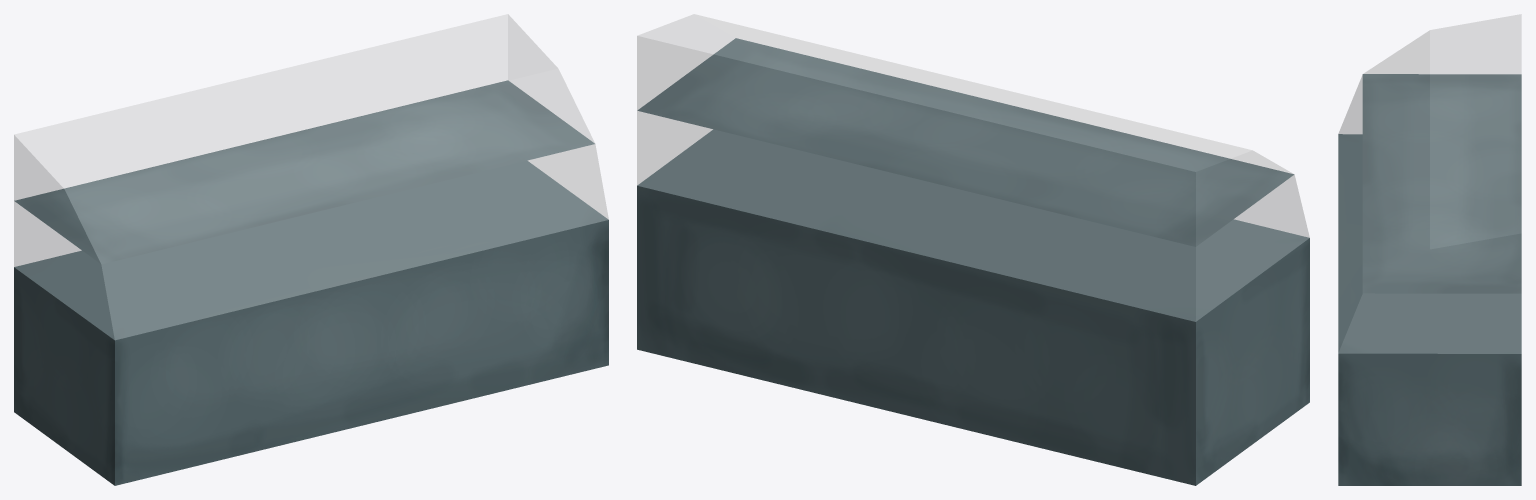
Rendered from bakery.gltf.
The picture shows the model from 3 angles, left to right: view 1: azimuth 30°, elevation 25°; view 2: azimuth 150°, elevation 25°; view 3: azimuth 270°, elevation 25°; orthographic projection. The views are drawn at different scales.
Visible parts, largest first — view 1: Bakery; view 2: Bakery; view 3: Bakery.
Boxes of the visible parts, x1,y1,x2,y2 form: Bakery: (14, 14, 608, 485); Bakery: (637, 14, 1309, 485); Bakery: (1338, 14, 1521, 485).
Bounding box in the file's own units: 1.99 × 1.07 × 0.704.
2 materials, 1 textured.
